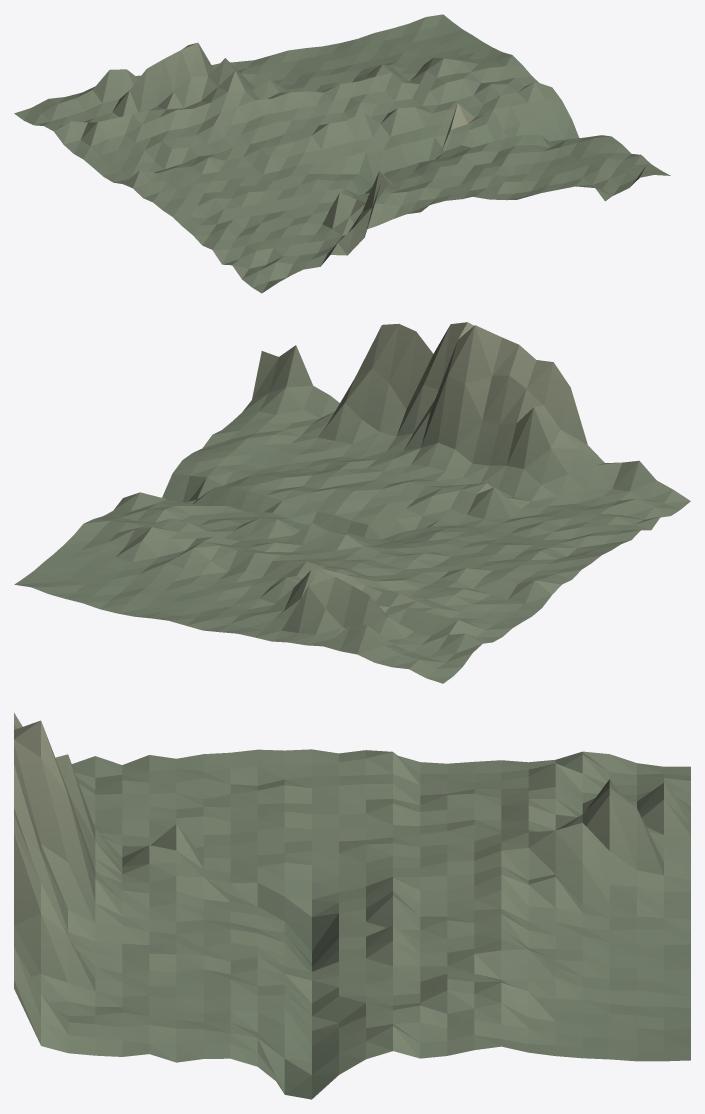
Rendered from tile_2_1.glb.
The picture shows the model from 3 angles, top to bottom: view 1: azimuth 30°, elevation 25°; view 2: azimuth 150°, elevation 25°; view 3: azimuth 270°, elevation 25°; orthographic projection. The views are drawn at different scales.
Visible parts, largest first — view 1: geometry_0; view 2: geometry_0; view 3: geometry_0.
Boxes of the visible parts, left/top/right/bottom form: geometry_0: left=14, top=14, right=670, bottom=293; geometry_0: left=14, top=322, right=690, bottom=683; geometry_0: left=14, top=713, right=690, bottom=1099.
Size of the model in its own units: 123 by 47.36 by 123.
